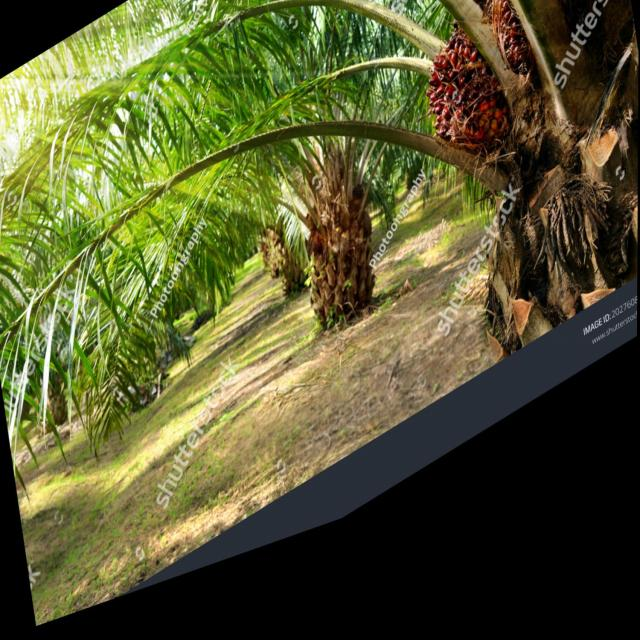Ripefruit: (416, 32, 511, 222), (486, 0, 576, 130), (448, 0, 491, 45)
